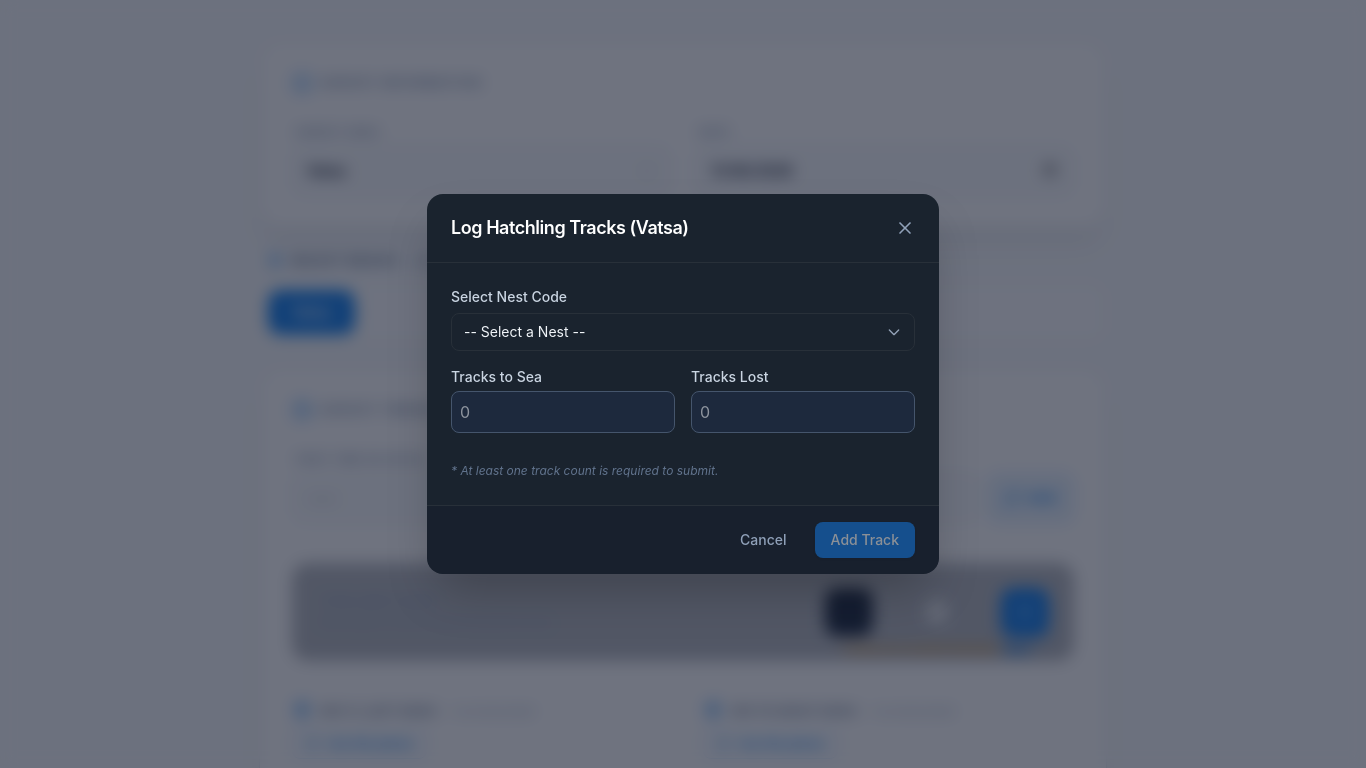
Test case: Hatchling track nest picker (QA-095) › lets a plausible nest be picked and submitted normally
Earlier steps of the test are not shown.
Select "VA-1 (Vatsa) - laid 55d ago" in the dropdown labelled "Select Nest Code" at coordinates (683, 332), box left=451, top=313, right=915, bottom=351
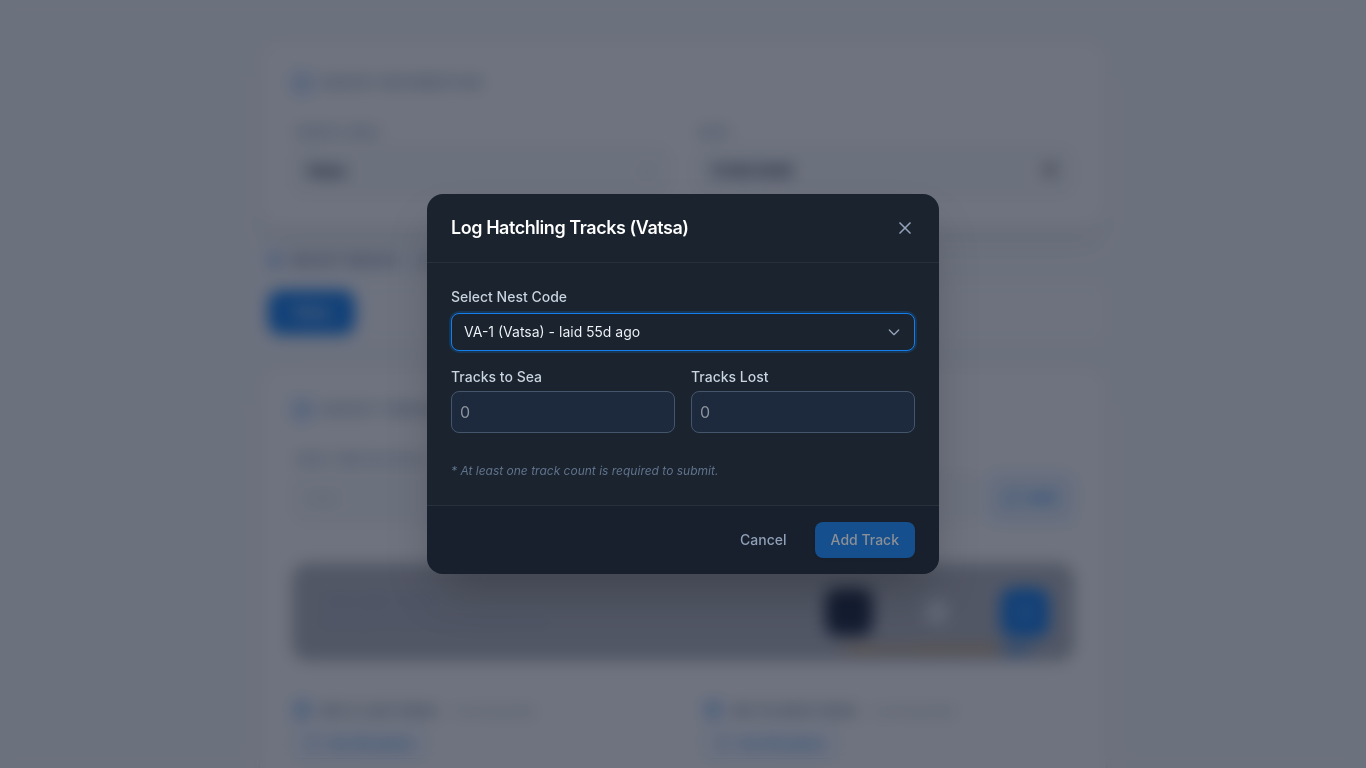
Type "12" into the number field labelled "Tracks to Sea" at coordinates (563, 412), box left=451, top=391, right=675, bottom=433
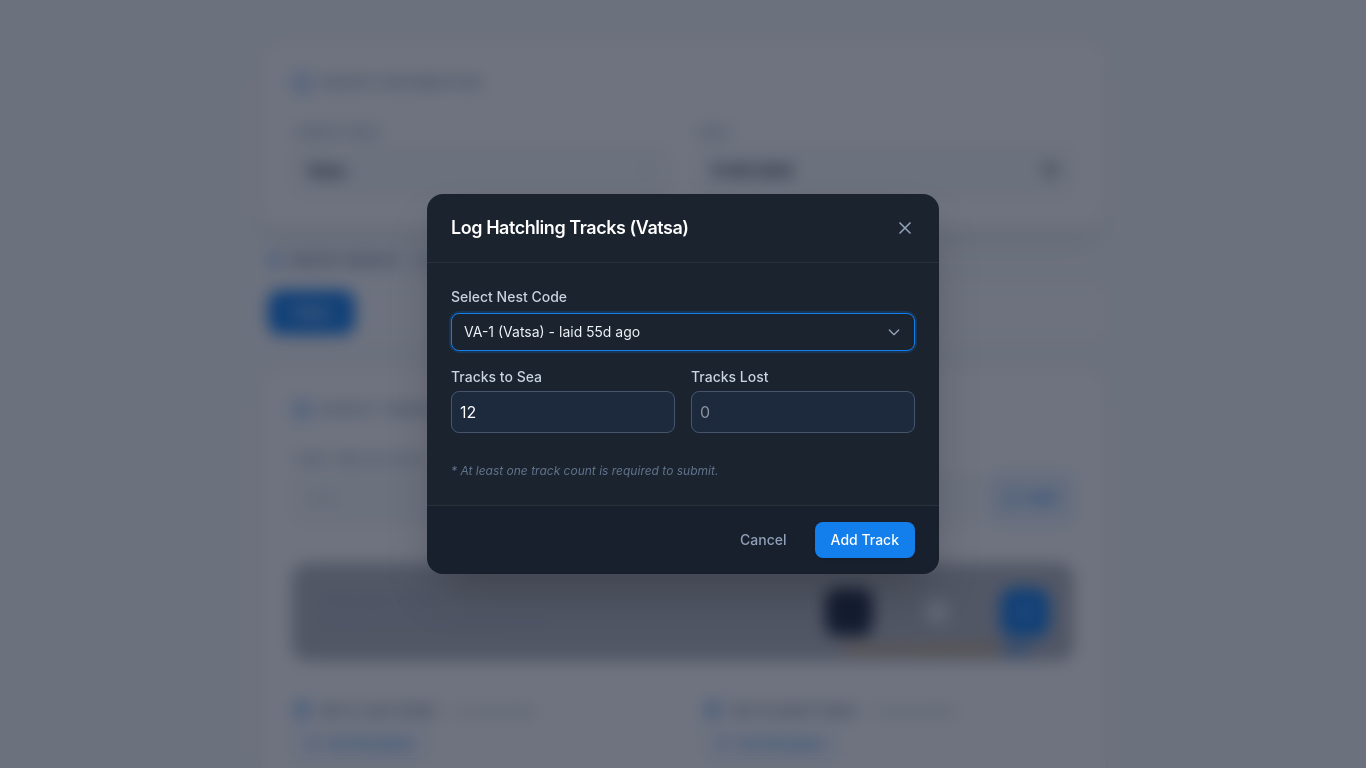
Expected: the button "Add Track" is enabled, left=815, top=522, right=915, bottom=558
